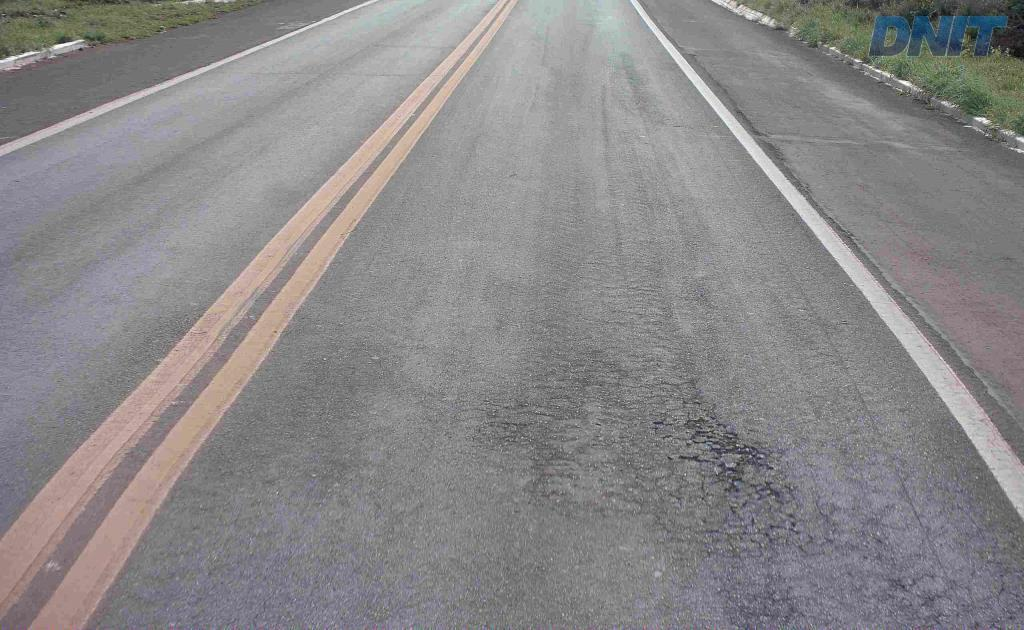crack: (678, 403, 773, 493)
